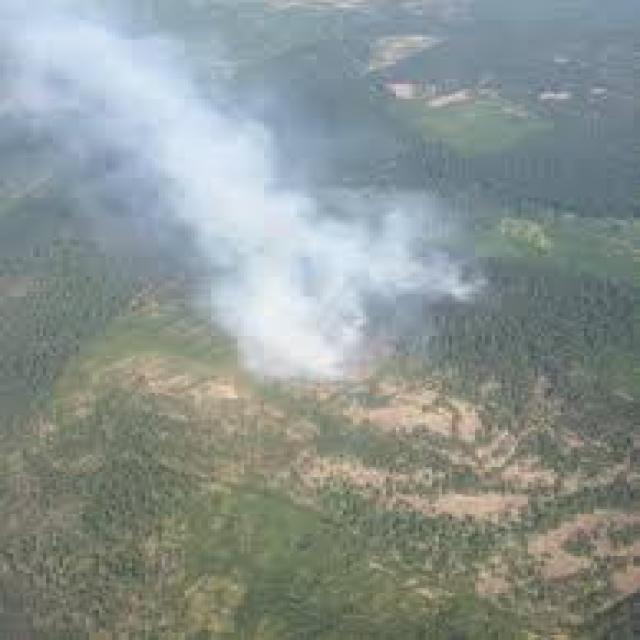Smoke: (180, 144, 489, 390), (0, 2, 303, 225)
